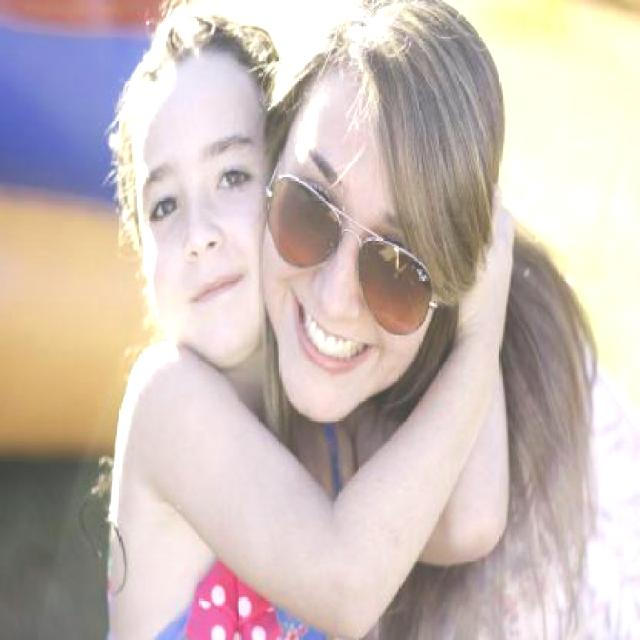face_nomask: (270, 173, 438, 376), (139, 144, 263, 321)
glasses: (262, 160, 450, 325)
hand_noglove: (447, 190, 525, 324)
head_nohelmet: (298, 21, 493, 148), (127, 16, 279, 119)
